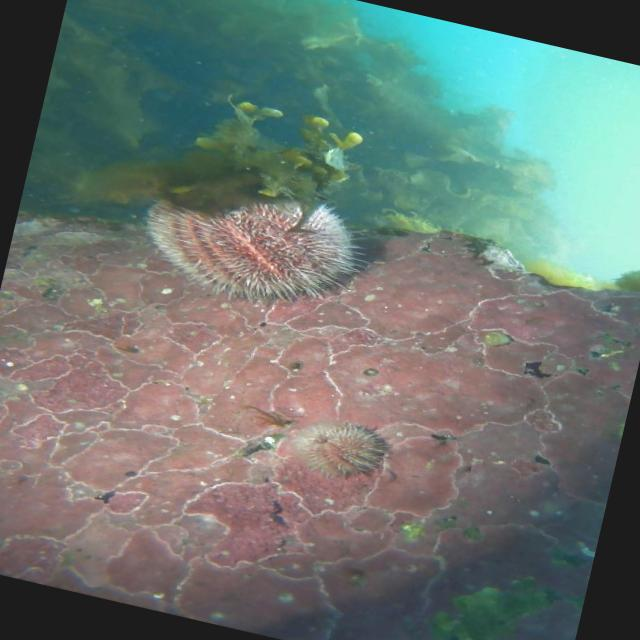Deniz Kestanesi: (126, 147, 386, 331), (286, 409, 395, 488)
